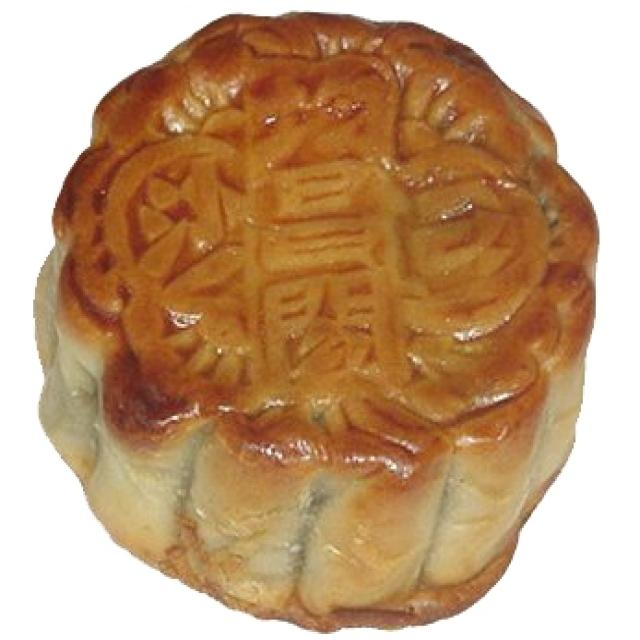蛋糕甜品: (41, 20, 579, 608)
